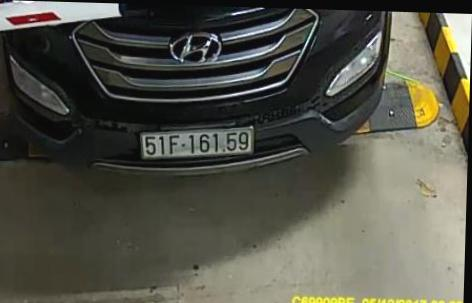License_Plate: (133, 120, 264, 171)
